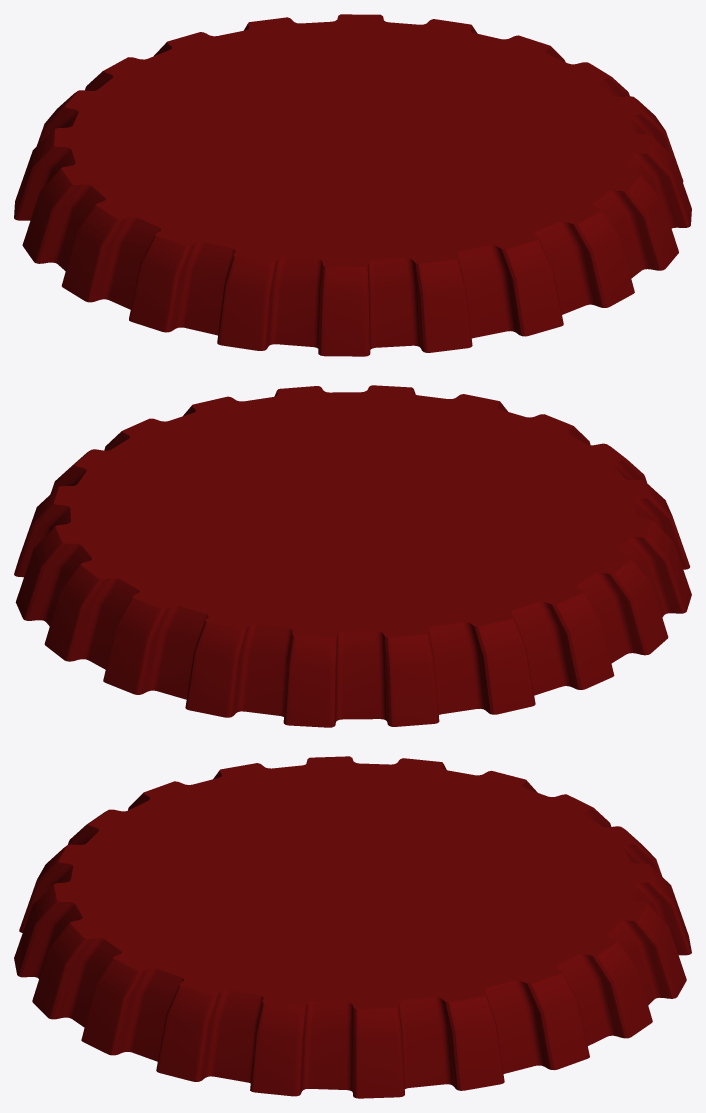
File: Bottle Cap Metal.fbx
The picture shows the model from 3 angles, top to bottom: view 1: azimuth 30°, elevation 25°; view 2: azimuth 150°, elevation 25°; view 3: azimuth 270°, elevation 25°; orthographic projection.
Parts seen in each view (by area): view 1: pCylinder1; view 2: pCylinder1; view 3: pCylinder1.
Boxes of the visible parts, x1,y1,x2,y2 form: pCylinder1: (14, 14, 691, 356); pCylinder1: (14, 385, 691, 727); pCylinder1: (14, 756, 691, 1098).
Bounding box in the file's own units: 3.86 × 0.4561 × 3.86.
